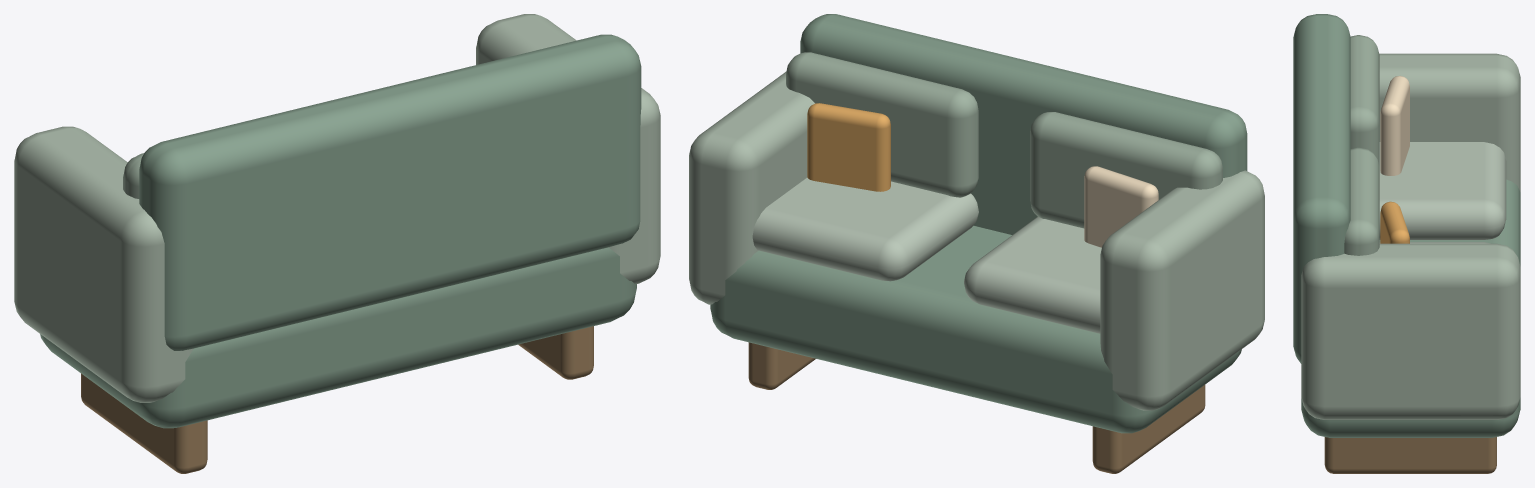
Rendered from lounge-sofa.glb.
3 views of the same model, side by side, from view 1: azimuth 30°, elevation 25°; view 2: azimuth 150°, elevation 25°; view 3: azimuth 270°, elevation 25° (orthographic). The views are drawn at different scales.
Visible parts, largest first — view 1: lounge-sofa; view 2: lounge-sofa; view 3: lounge-sofa.
Part boxes in pixels (<box>): lounge-sofa: <box>14,14,660,473</box>; lounge-sofa: <box>689,14,1264,473</box>; lounge-sofa: <box>1293,14,1520,473</box>.
Size of the model in its own units: 2 by 1.2 by 0.87.
